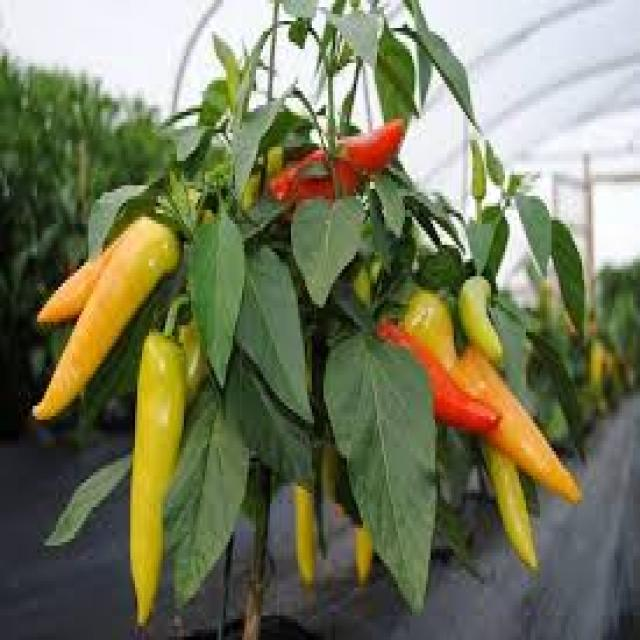sehat: (325, 316, 442, 614), (243, 253, 320, 437), (187, 215, 254, 376)
